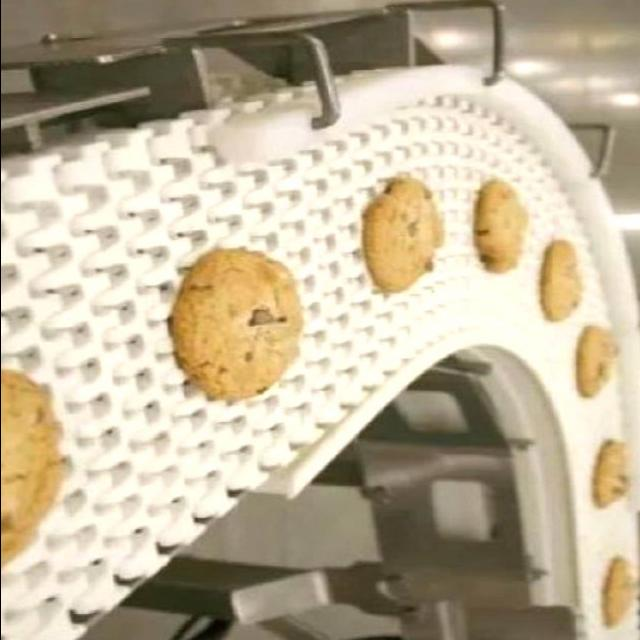food: (168, 247, 306, 402), (352, 172, 458, 292)
